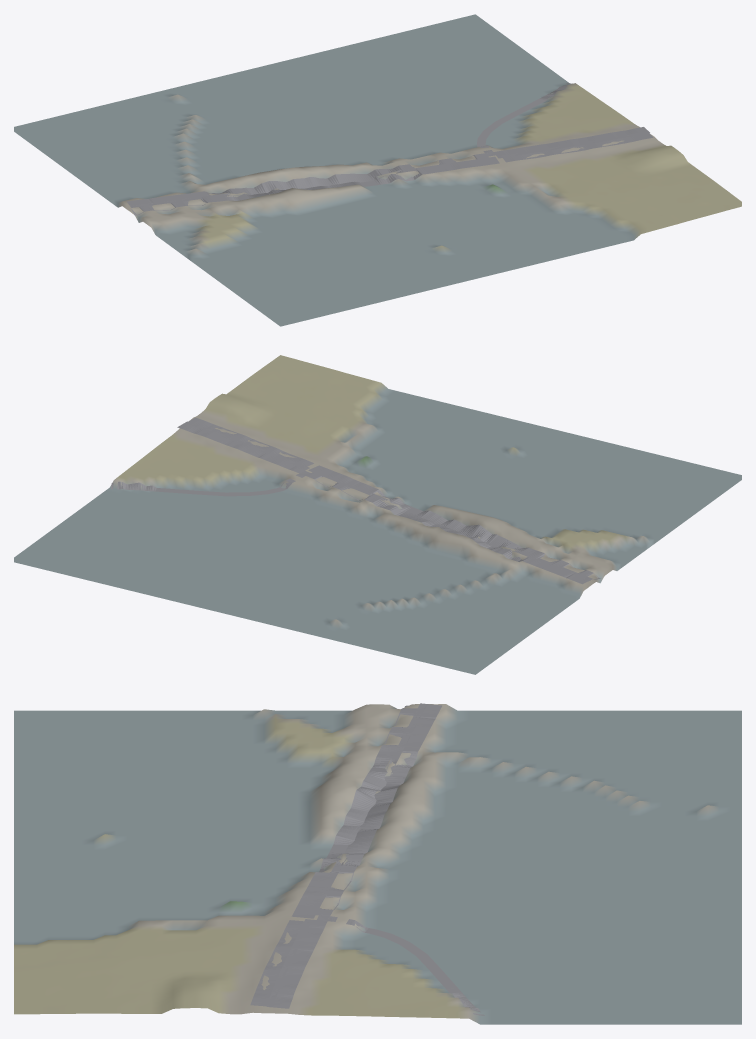
The picture shows the model from 3 angles, top to bottom: view 1: azimuth 30°, elevation 25°; view 2: azimuth 150°, elevation 25°; view 3: azimuth 270°, elevation 25°; orthographic projection. The views are drawn at different scales.
Visible parts, largest first — view 1: prim0, prim1; view 2: prim0, prim1; view 3: prim0, prim1.
Part boxes in pixels (bbox=[...]): prim0: bbox=[14, 14, 741, 326]; prim1: bbox=[126, 83, 653, 215]; prim0: bbox=[14, 355, 741, 674]; prim1: bbox=[111, 417, 600, 584]; prim0: bbox=[14, 704, 741, 1024]; prim1: bbox=[250, 703, 484, 1015].
Bounding box in the file's own units: 518 × 17.88 × 512.
